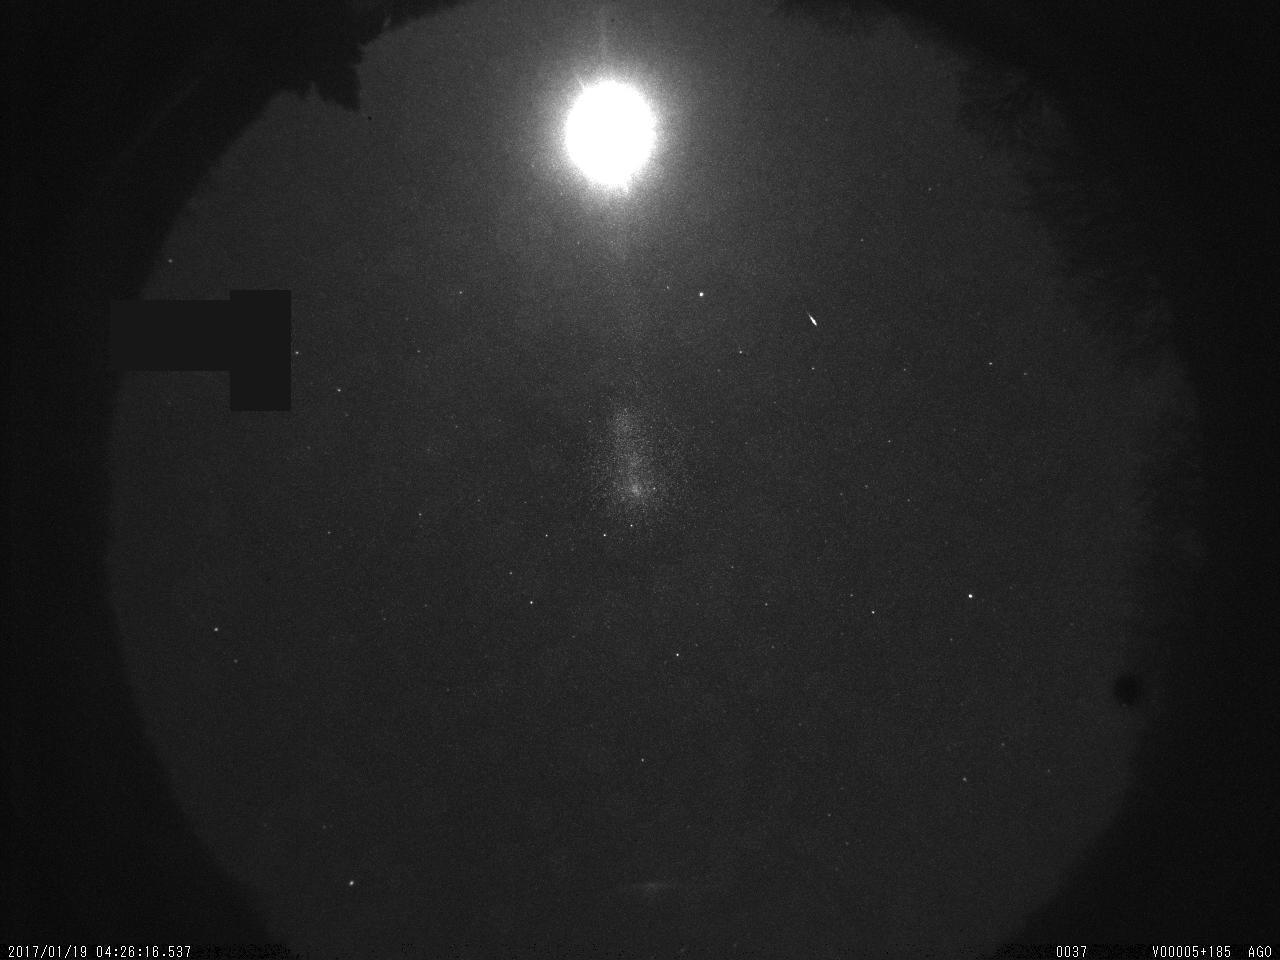Meteor: (798, 300, 824, 340)
